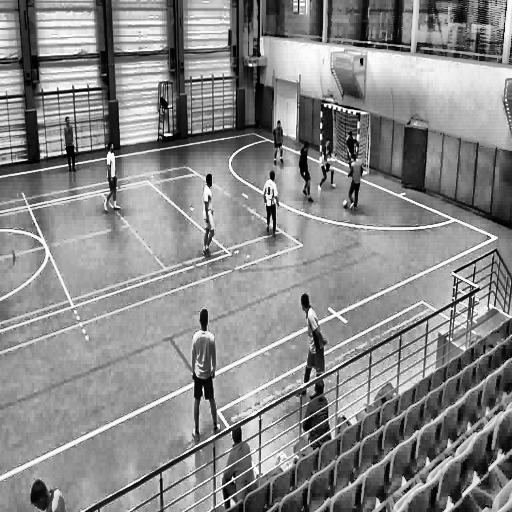ball: (342, 198, 350, 212)
player: (189, 307, 221, 442), (221, 418, 256, 500), (300, 293, 327, 398), (298, 378, 333, 448), (262, 164, 280, 244), (102, 141, 120, 218), (298, 136, 316, 209), (201, 172, 215, 264), (317, 137, 338, 193), (346, 153, 365, 213), (62, 115, 78, 179), (271, 118, 287, 170), (344, 130, 358, 165)
